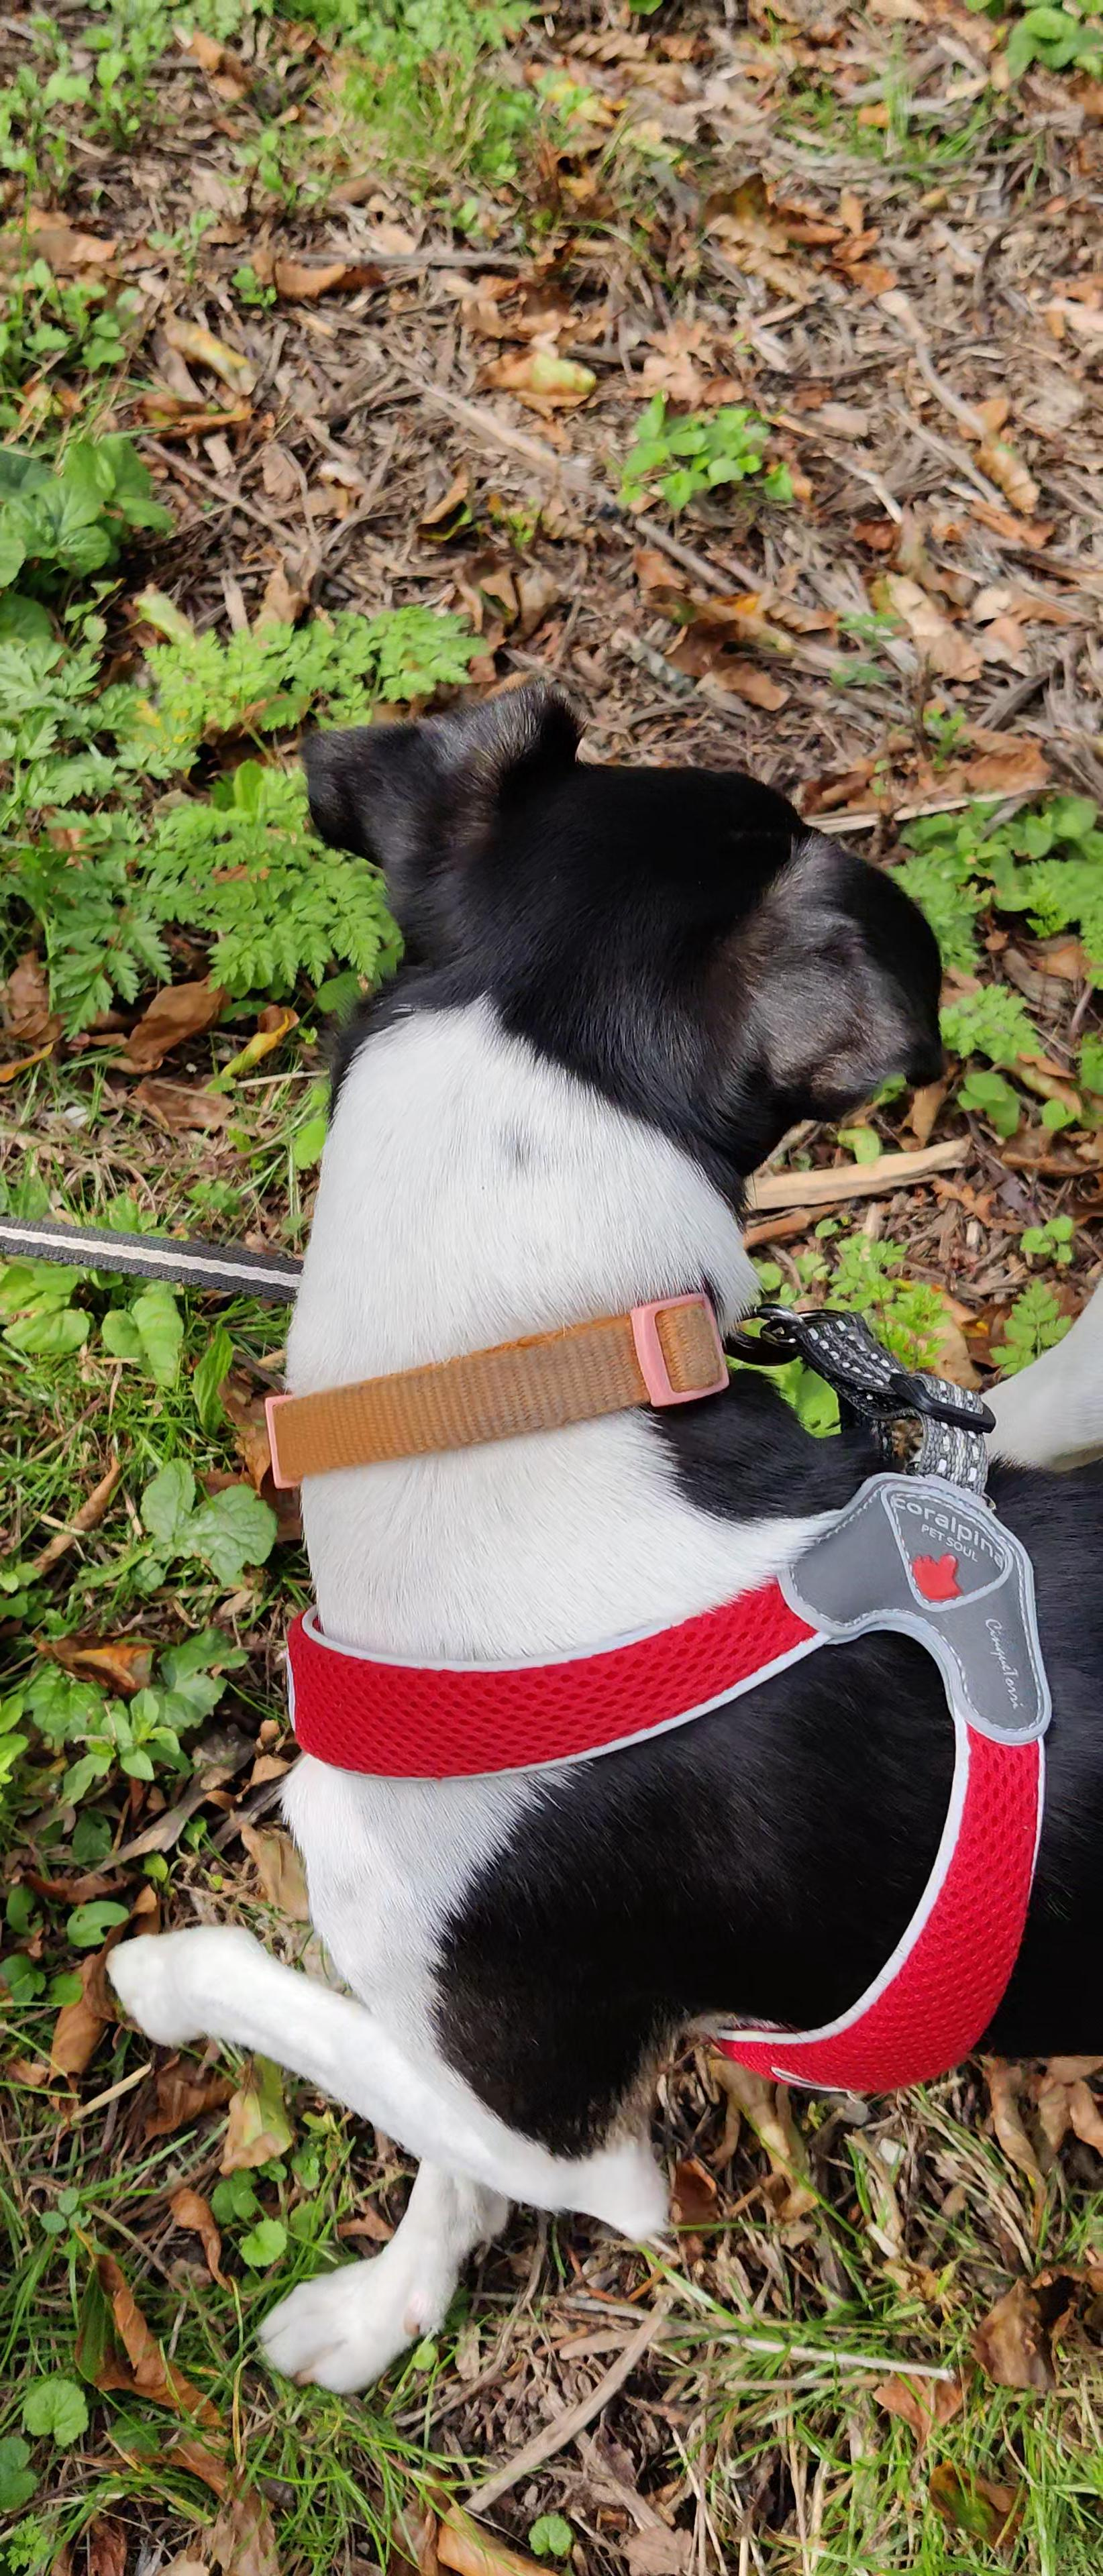Dog: (59, 652, 1103, 2402)
